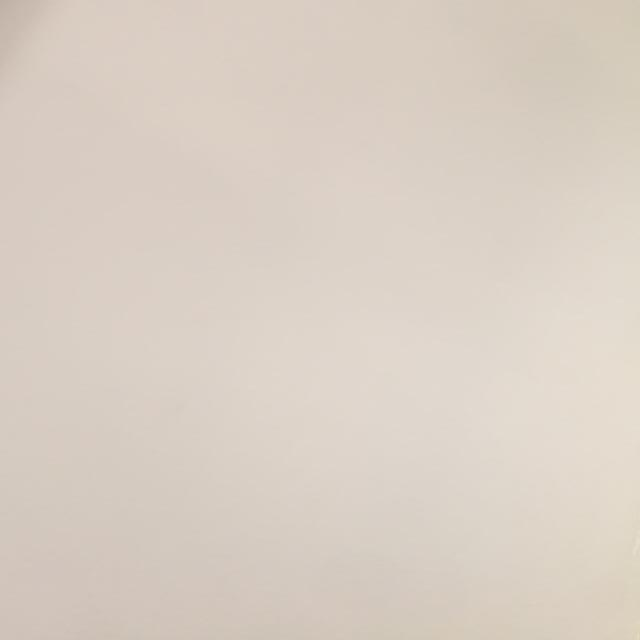fluorescent tube: (0, 0, 265, 452)
